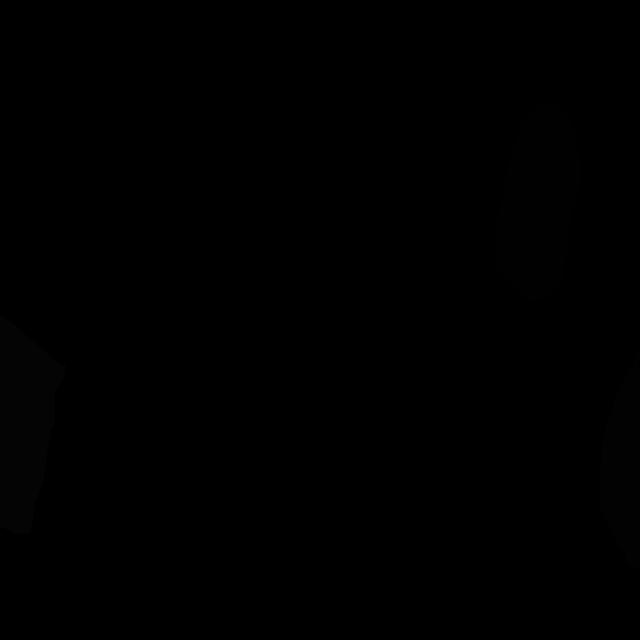cardboard: (600, 342, 640, 570)
rigid_plastic: (493, 100, 581, 303)
soft_plastic: (0, 315, 66, 534)
